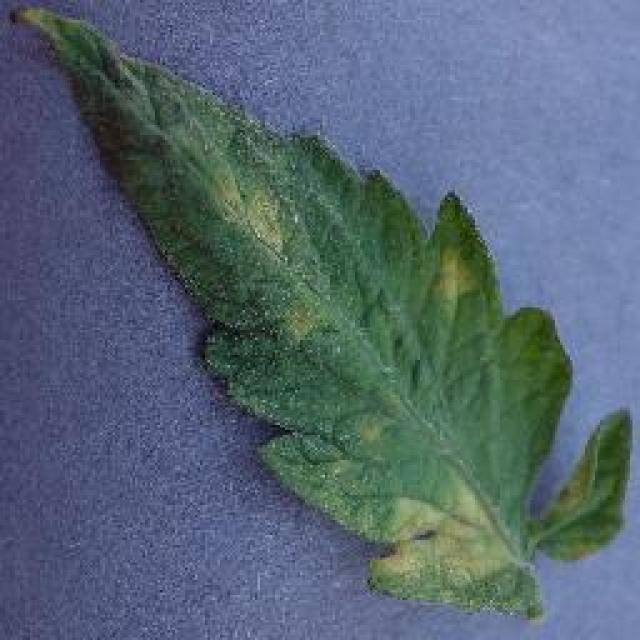Tomato mold leaf: (4, 1, 634, 618)
